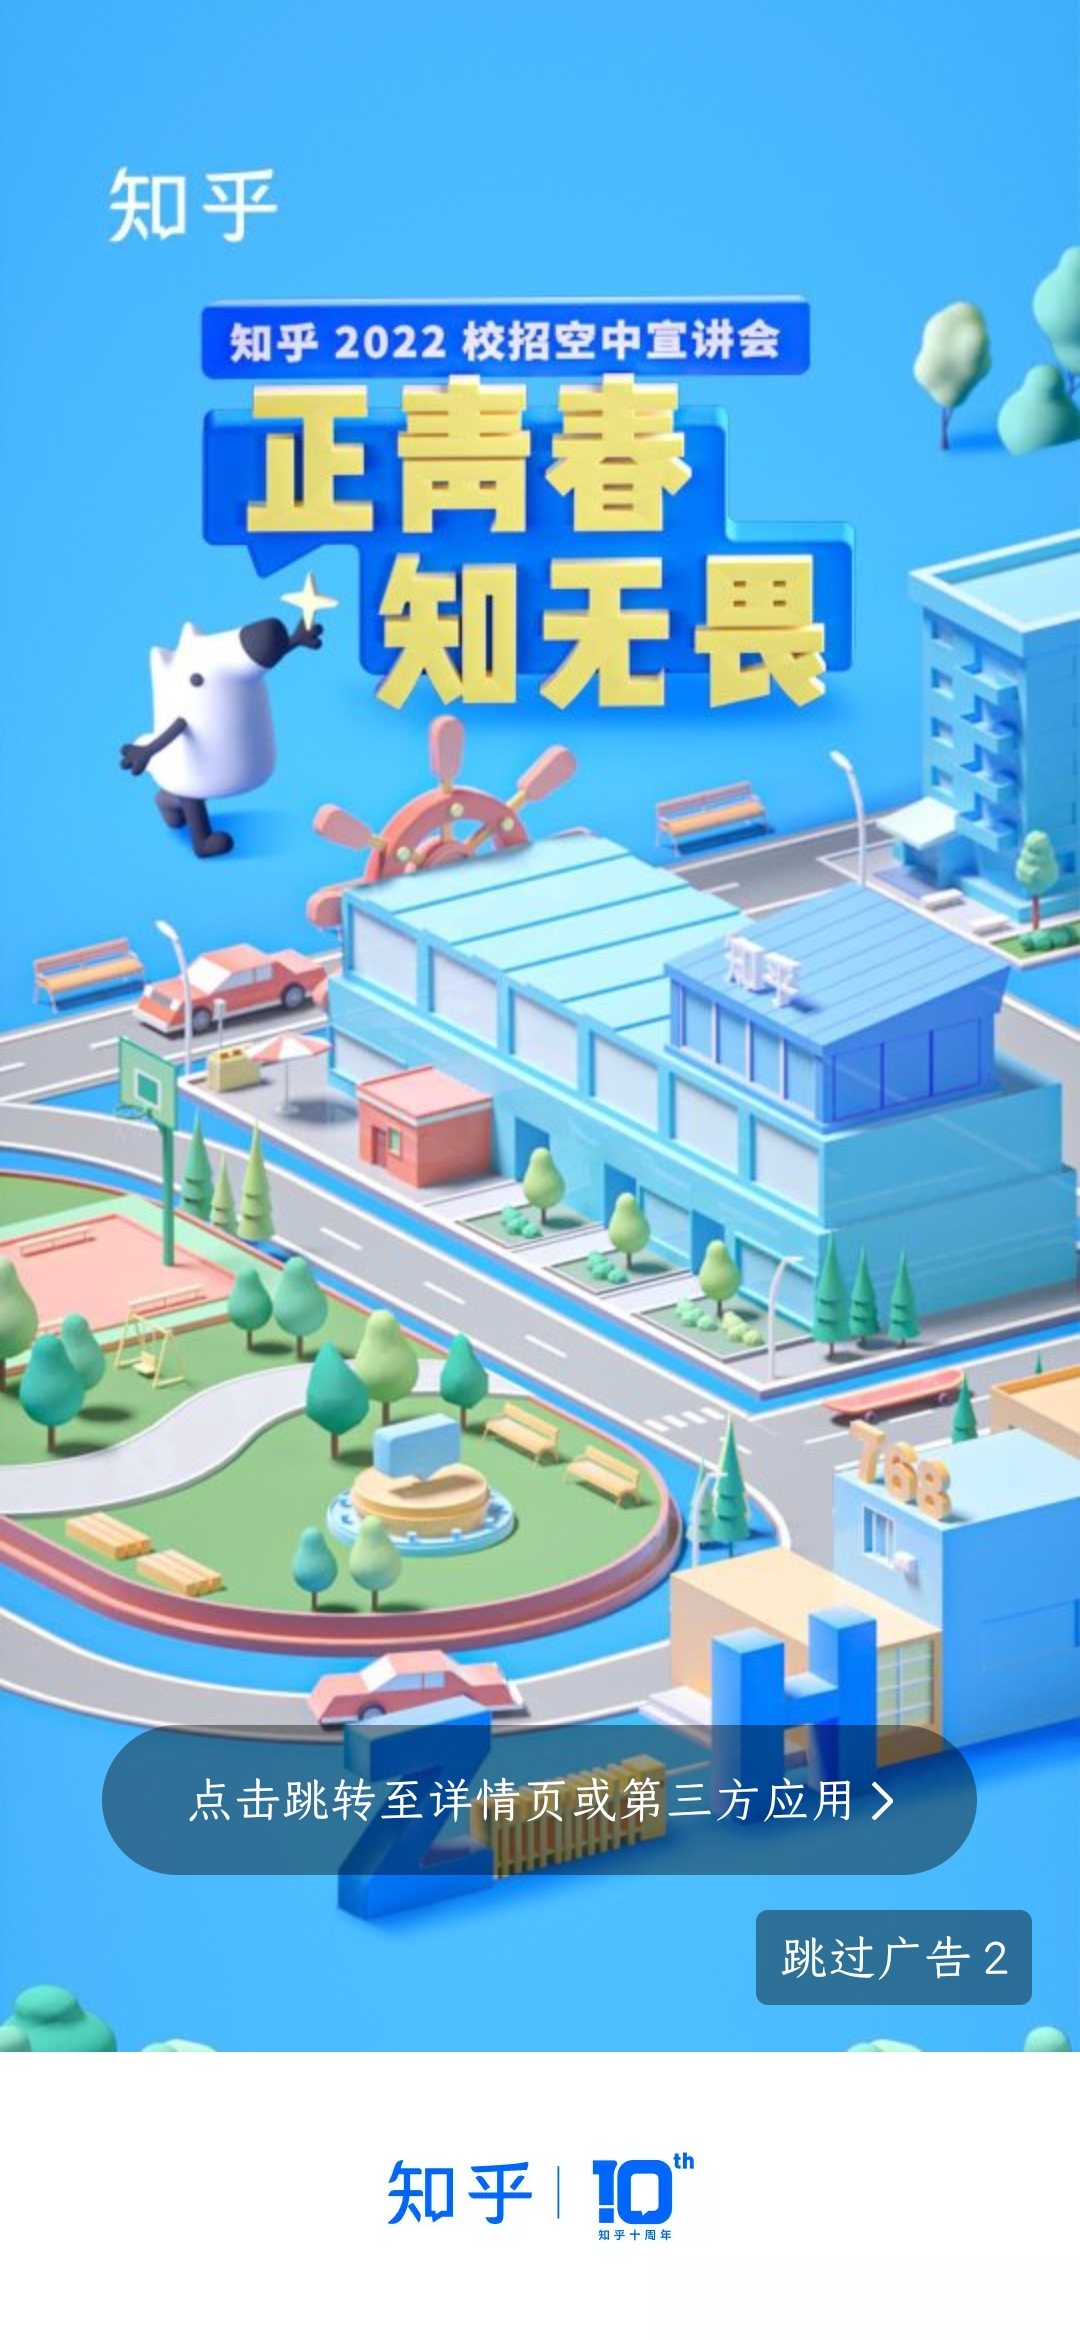skip: (750, 1918, 1028, 2018)
